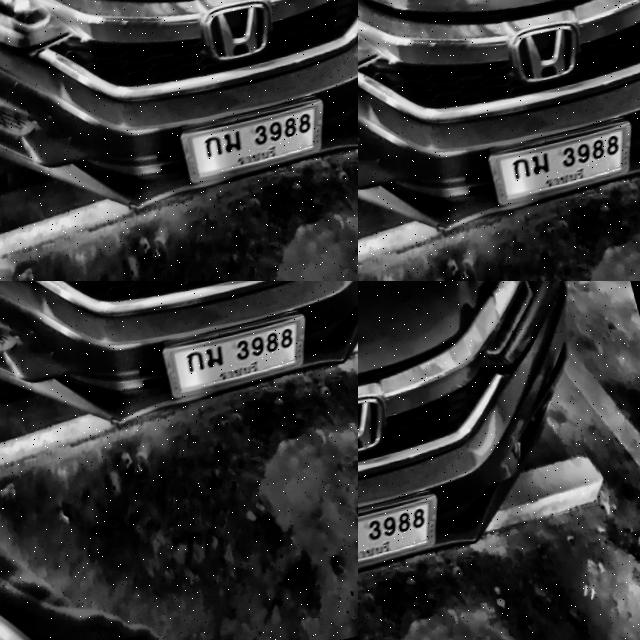license-plate: (358, 499, 435, 580)
